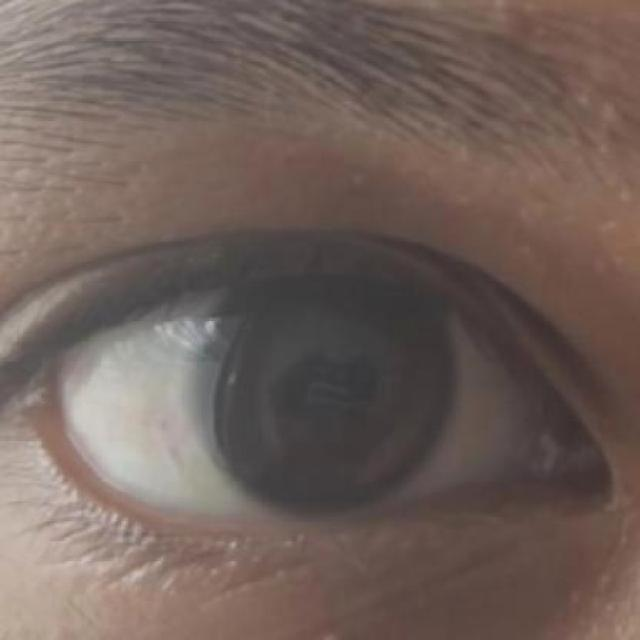Normal: (206, 256, 466, 520)
